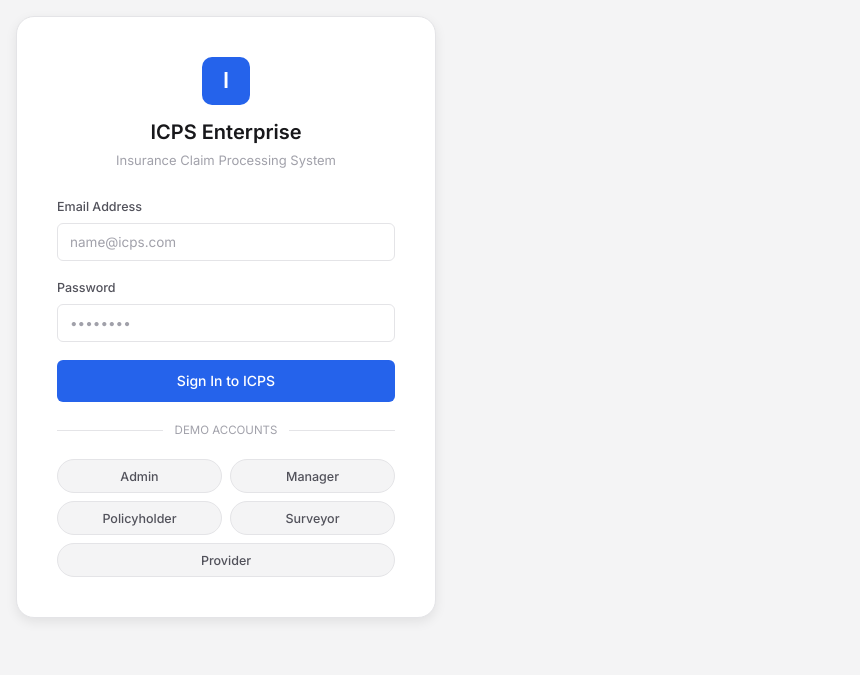
it: ICPS Enterprise RBAC Flows › Login Page Render › auto-fills credentials when demo button is clicked
Click the button "Admin": (140, 476) x1=57 y1=459 x2=222 y2=493
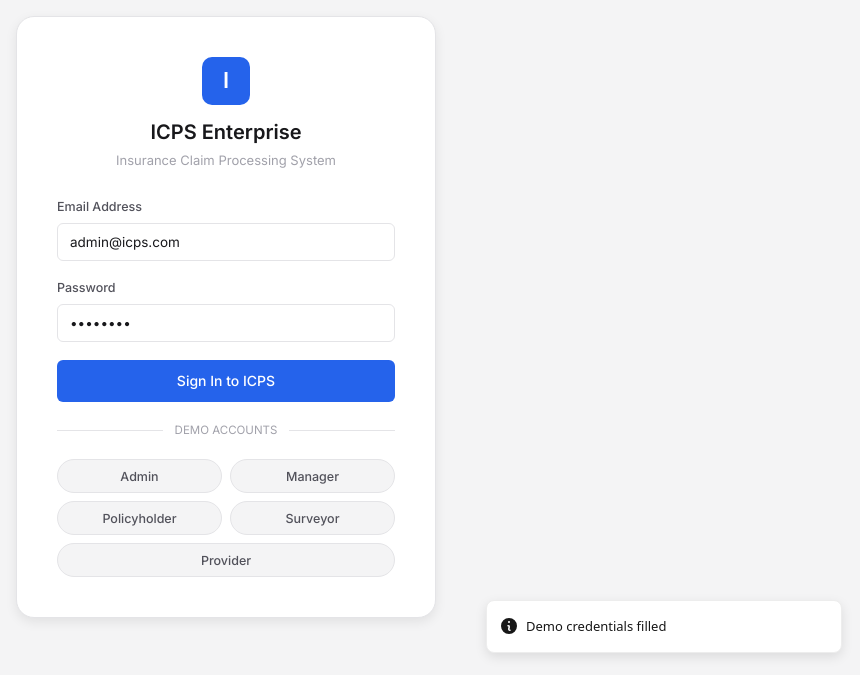
Check: the field with id "email" holds "admin@icps.com", box x1=57 y1=223 x2=395 y2=261
Check: the password field labelled "Password" holds "password", box x1=57 y1=304 x2=395 y2=342
